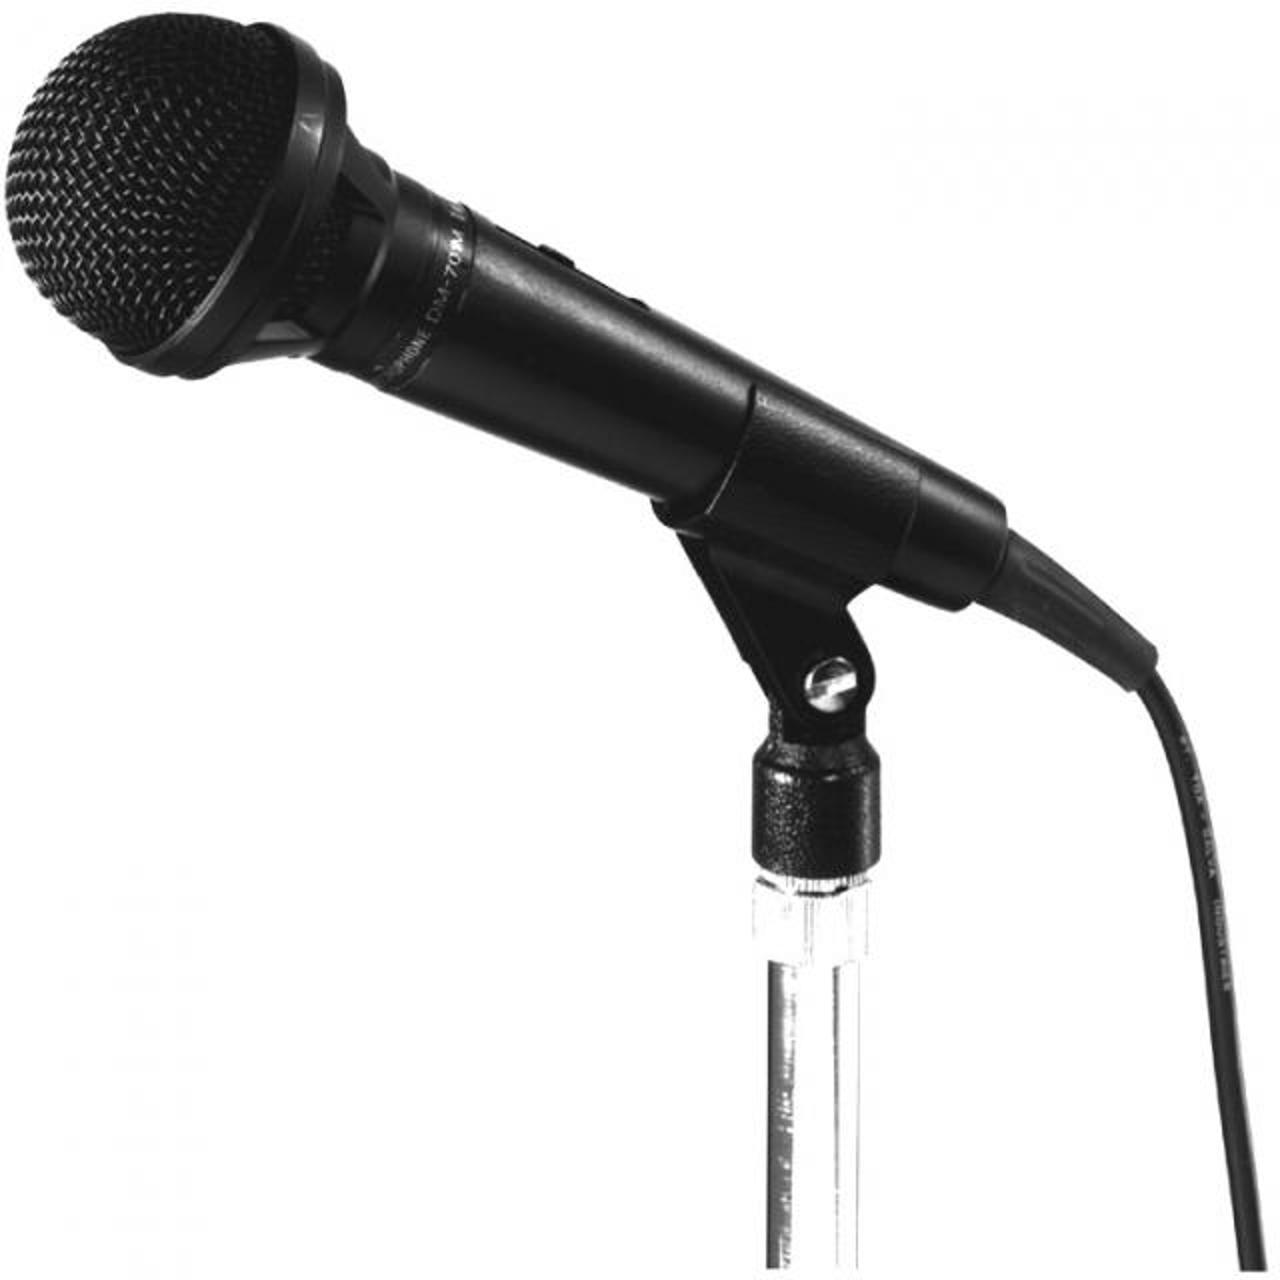Microphone: (0, 0, 1280, 1259)
